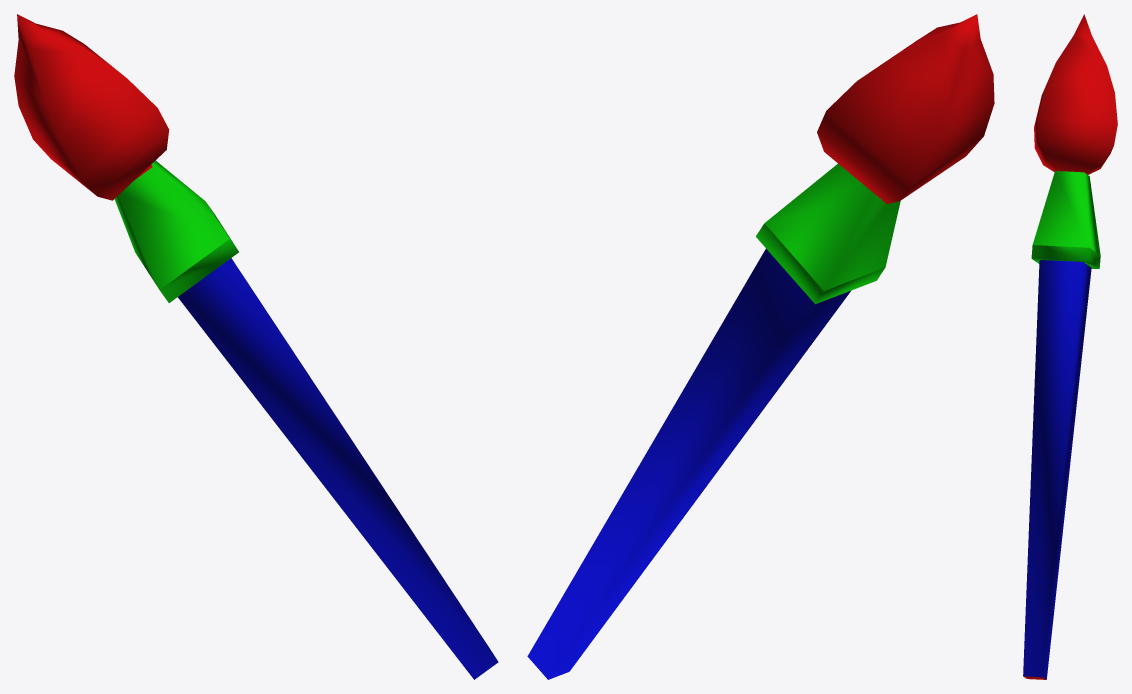
File: Brush.fbx
The picture shows the model from 3 angles, left to right: view 1: azimuth 30°, elevation 25°; view 2: azimuth 150°, elevation 25°; view 3: azimuth 270°, elevation 25°; orthographic projection. The views are drawn at different scales.
Visible parts, largest first — view 1: A_brush_L; view 2: A_brush_L; view 3: A_brush_L.
Boxes of the visible parts, x1=… form: A_brush_L: x1=14, y1=14, x2=498, y2=679; A_brush_L: x1=527, y1=14, x2=994, y2=679; A_brush_L: x1=1023, y1=14, x2=1117, y2=679.
Size of the model in its own units: 36.46 by 9.54 by 57.9.
